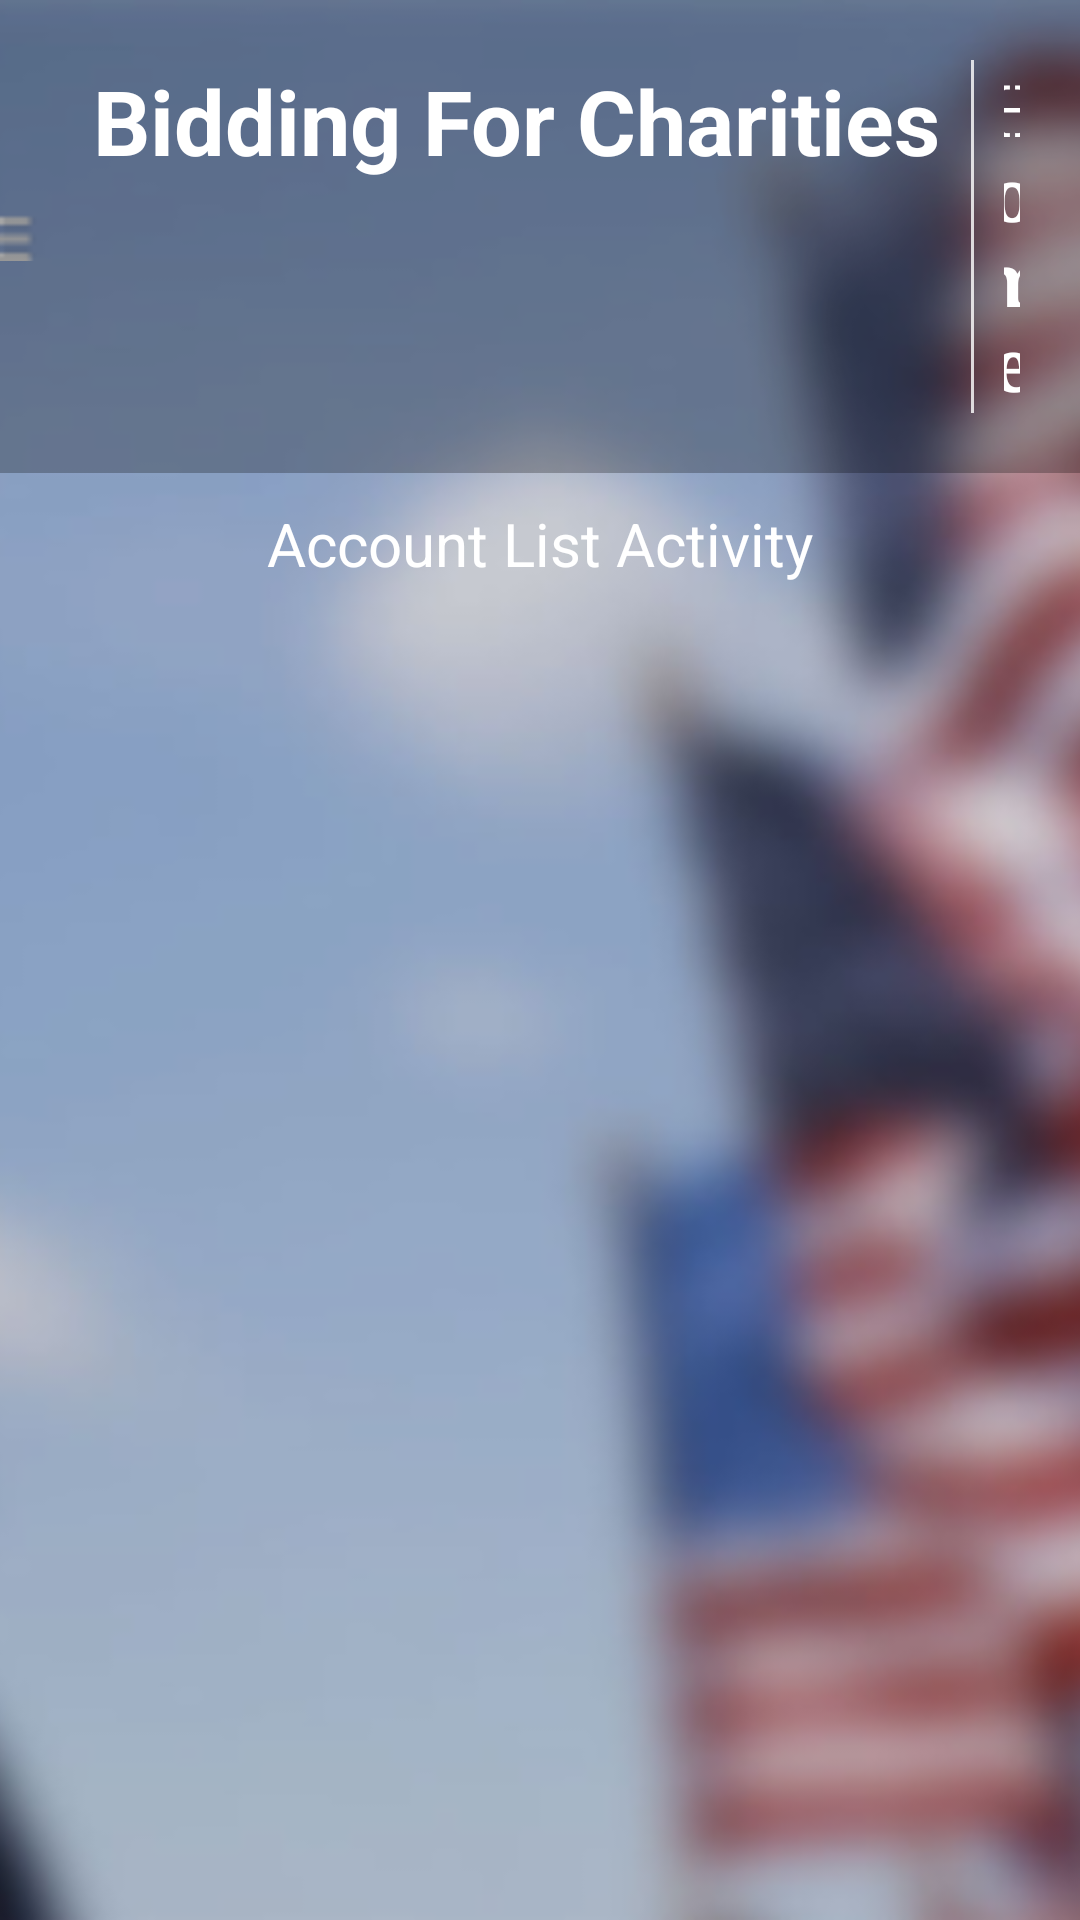

Point at icon controls on the screen. Image size 1080x1920, points as point (x, y).
drawer: point (16, 238)
